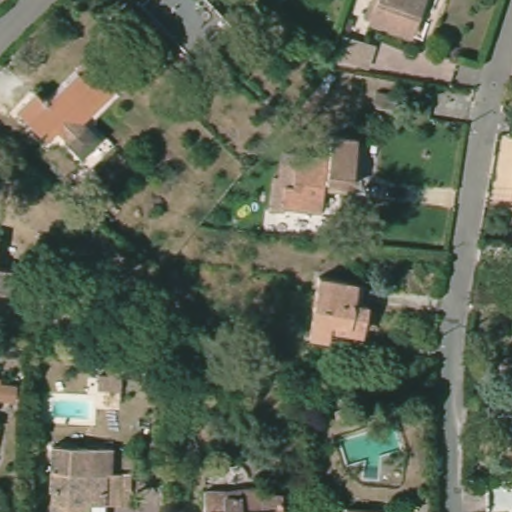pool: (330, 426, 413, 481), (48, 394, 94, 423)
